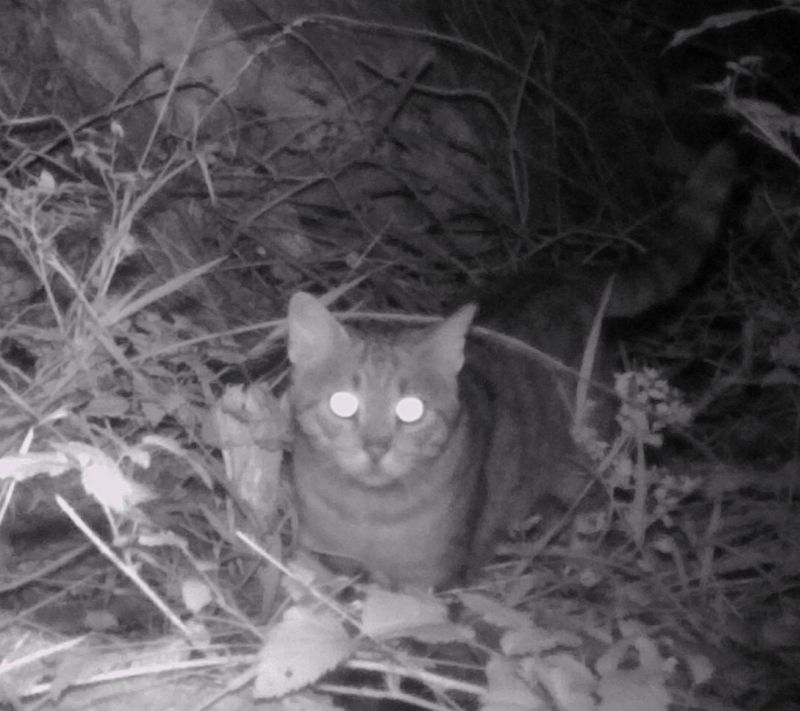house cat: (249, 269, 752, 566)
